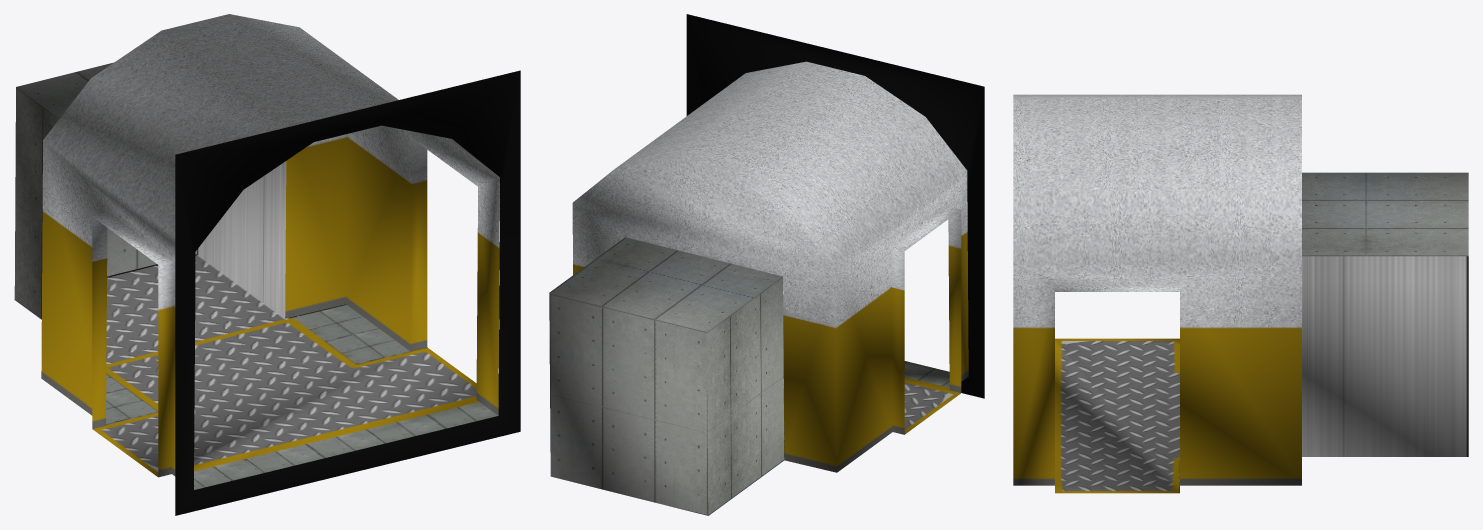
Rendered from Lift_1_1.fbx.
3 views of the same model, side by side, from view 1: azimuth 30°, elevation 25°; view 2: azimuth 150°, elevation 25°; view 3: azimuth 270°, elevation 25° (orthographic). The views are drawn at different scales.
Visible parts, largest first — view 1: лифт 1.1; view 2: лифт 1.1; view 3: лифт 1.1.
Part boxes in pixels (x1,y1,x2,y2): лифт 1.1: [14, 14, 520, 515]; лифт 1.1: [549, 14, 984, 515]; лифт 1.1: [1013, 94, 1468, 493].
Size of the model in its own units: 340 by 340 by 410.
